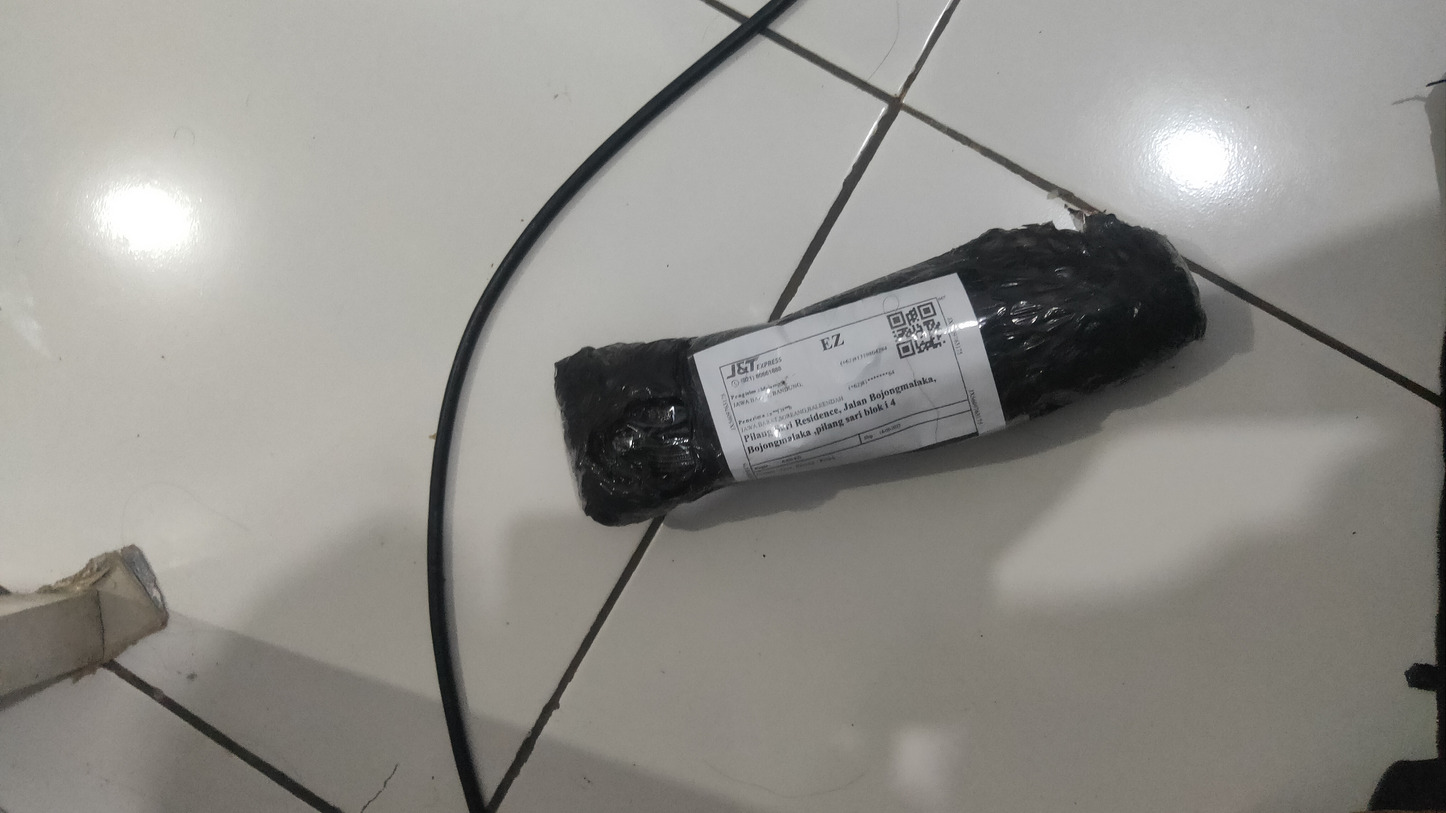damaged package: (585, 388, 706, 494)
undamaged: (552, 213, 1210, 529)
